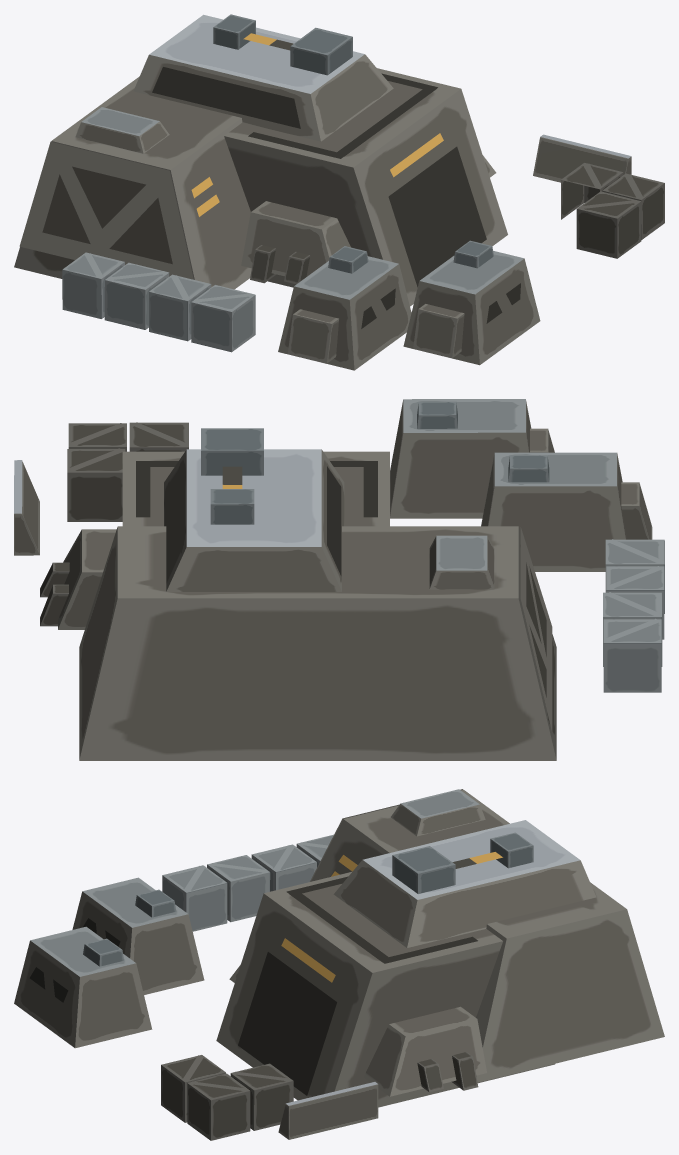
The model's file is barracks1.FBX.
3 renders of one model, top to bottom at view 1: azimuth 30°, elevation 25°; view 2: azimuth 150°, elevation 25°; view 3: azimuth 270°, elevation 25°, orthographic. The views are drawn at different scales.
Visible parts, largest first — view 1: barracks1, a, b, c; view 2: barracks1, a; view 3: barracks1, a.
Part boxes in pixels (box(x1,y1,x2,y2)): barracks1: box(14, 14, 664, 370); a: box(75, 107, 169, 153); b: box(250, 245, 276, 283); c: box(284, 252, 310, 284); barracks1: box(14, 399, 664, 760); a: box(429, 535, 494, 589); barracks1: box(14, 789, 664, 1140); a: box(391, 789, 485, 836).
Size of the model in its own units: 151 by 50.52 by 155.
1 material, 1 textured.
